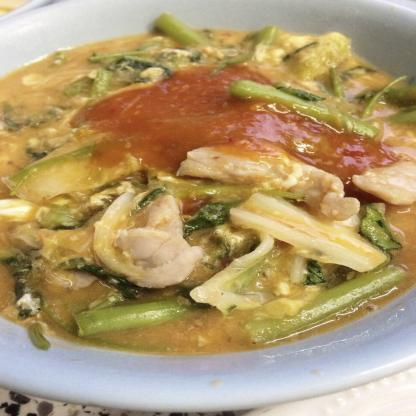Suki: (0, 17, 415, 357)
